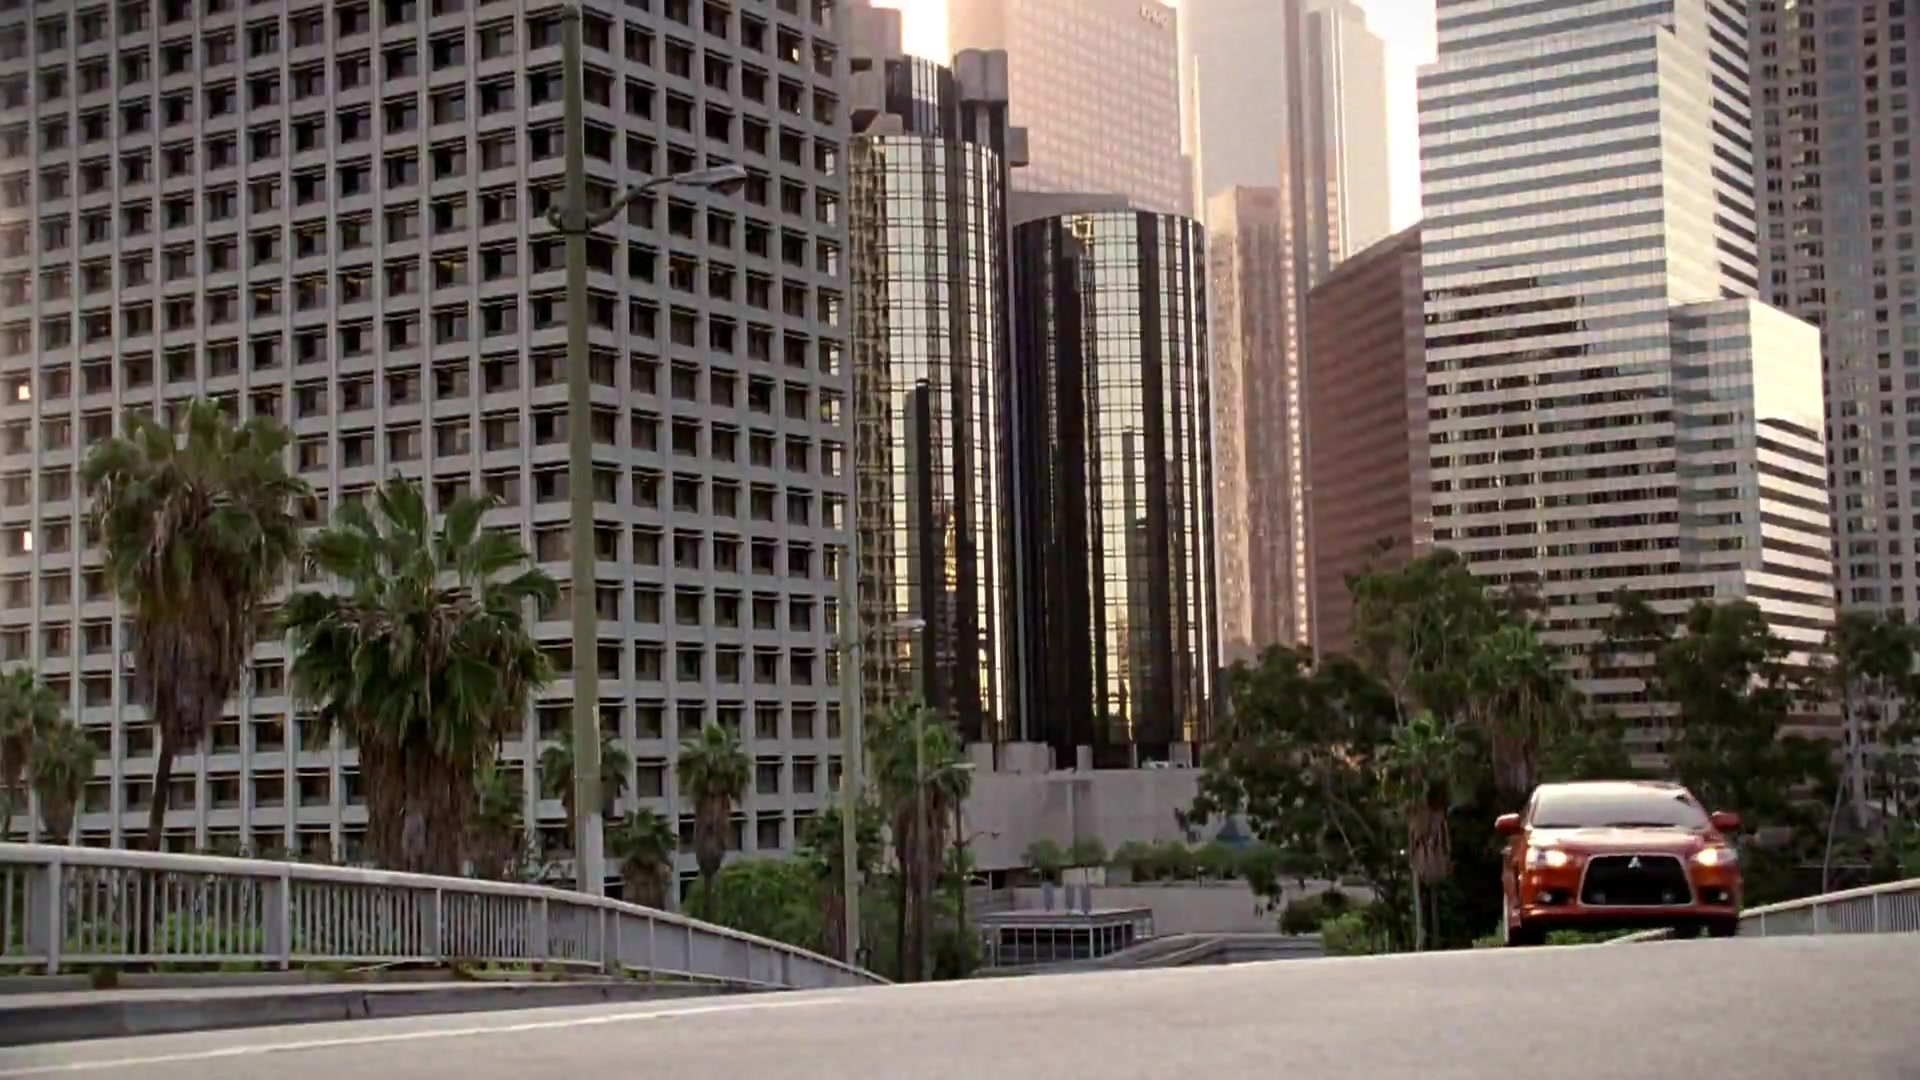car: (1484, 778, 1747, 940)
